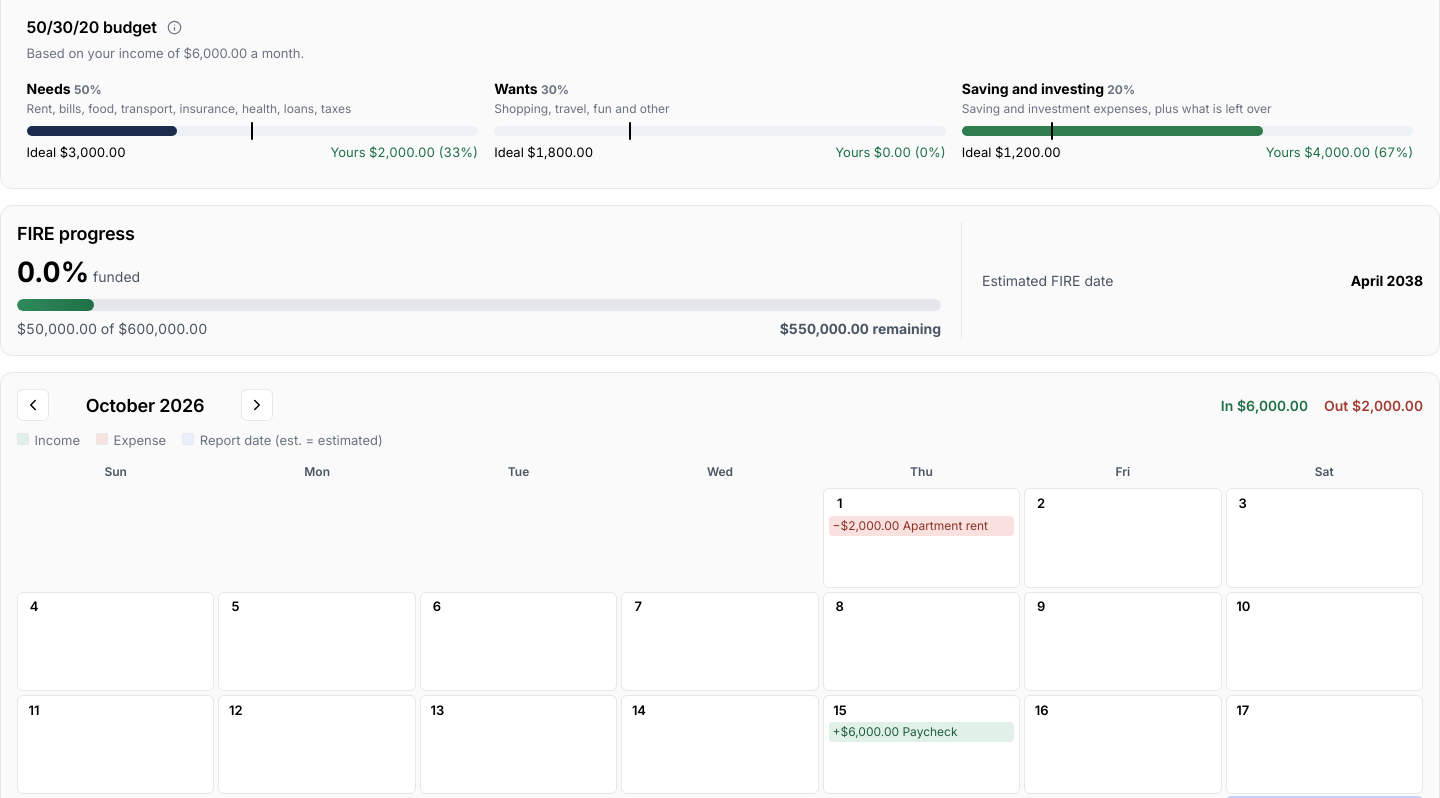
it: FireDashboard › shows incomes, expenses, and report dates on the month calendar
(page scrolled)
Expected: the heading "October 2026" is shown, x1=86 y1=395 x2=204 y2=416
Expected: the text "+$6,000.00 Paycheck" is shown, x1=828 y1=722 x2=1014 y2=742
Click the button named "Next month" at (257,405), box x1=241 y1=389 x2=273 y2=421
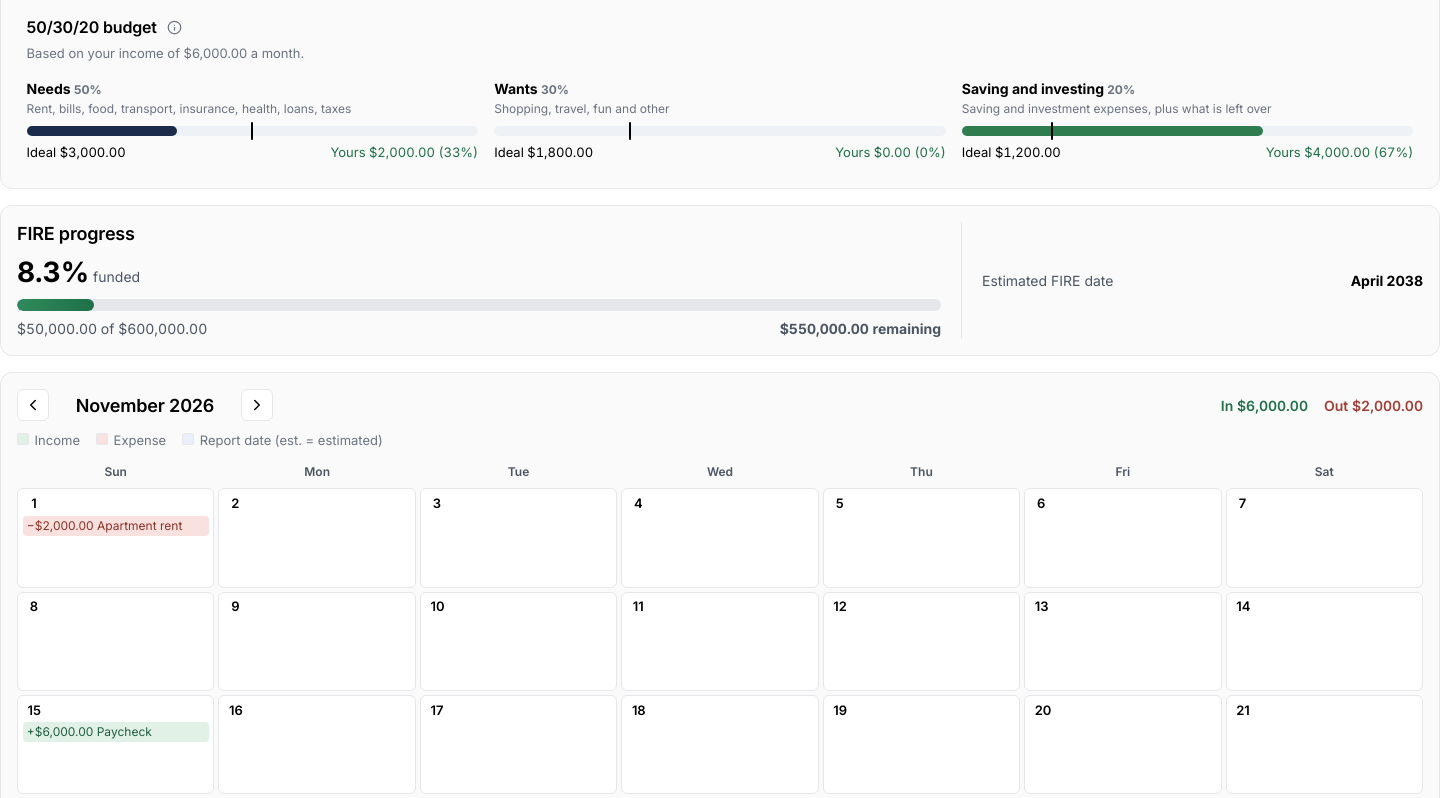
Now the heading "November 2026" is shown, box x1=76 y1=395 x2=214 y2=416
